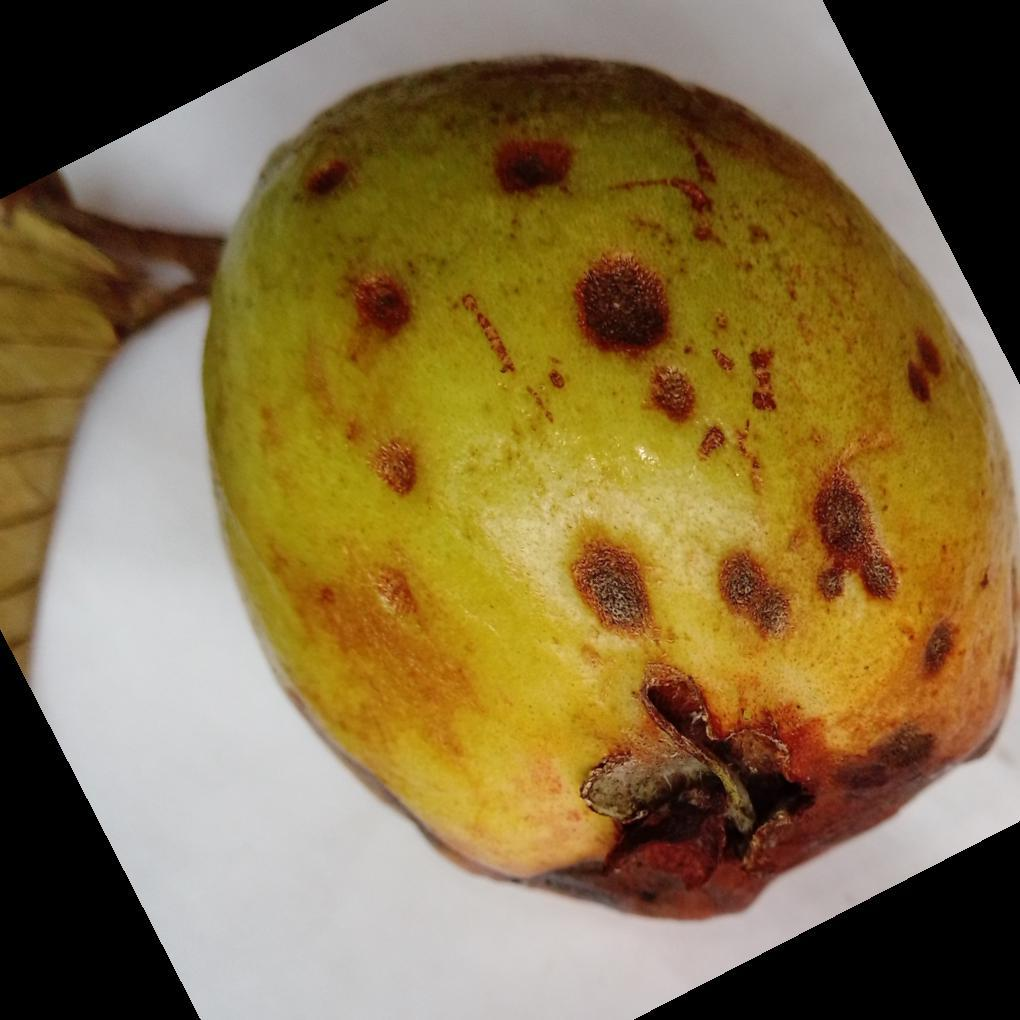FreshOrange: (200, 57, 1020, 924)
